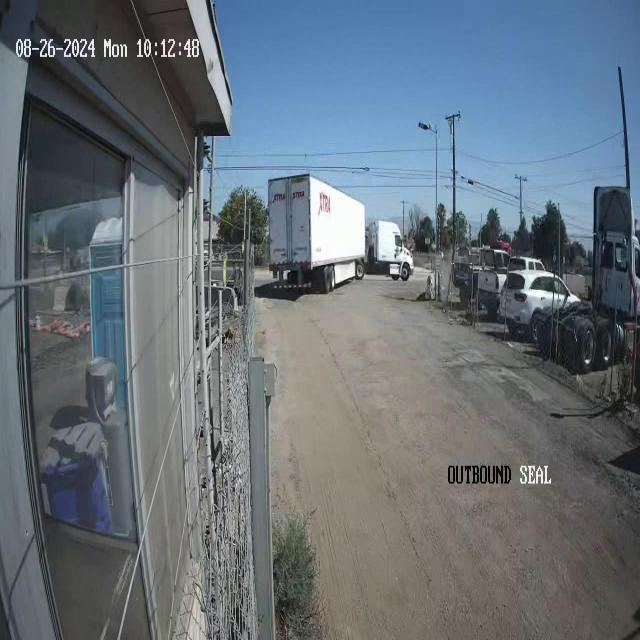TRUCK_OUT: (268, 172, 366, 293)
